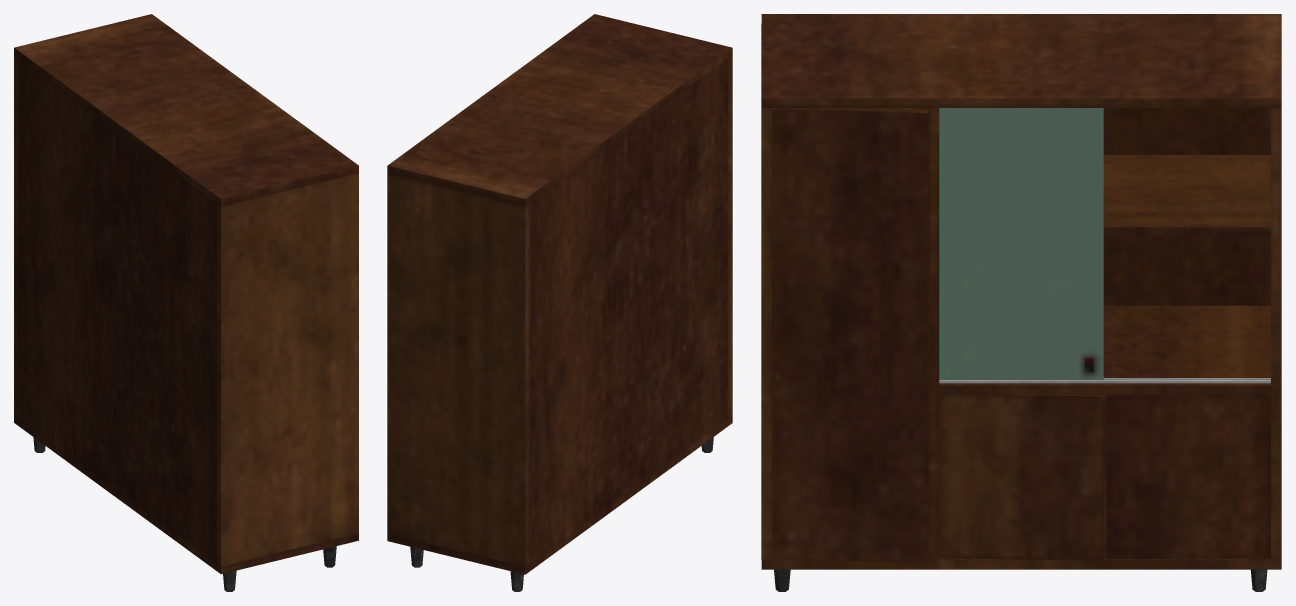
Rendered from wardrobe0.1.glb.
The picture shows the model from 3 angles, left to right: view 1: azimuth 30°, elevation 25°; view 2: azimuth 150°, elevation 25°; view 3: azimuth 270°, elevation 25°; orthographic projection. The views are drawn at different scales.
Parts seen in each view (by area): view 1: Куб.021; view 2: Куб.021; view 3: Куб.021.
Boxes of the visible parts, x1=… form: Куб.021: x1=14, y1=14, x2=358, y2=591; Куб.021: x1=387, y1=14, x2=732, y2=591; Куб.021: x1=761, y1=14, x2=1281, y2=591.
Bounding box in the file's own units: 0.8949 × 2.37 × 2.22.
1 material, 1 textured.
